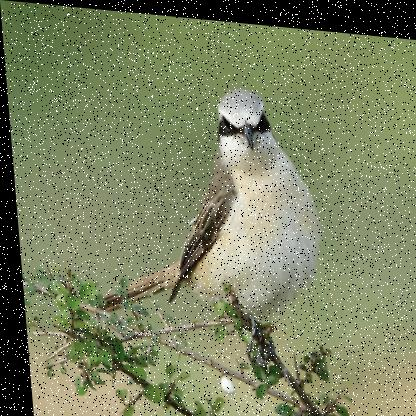Burung: (76, 71, 327, 338)
